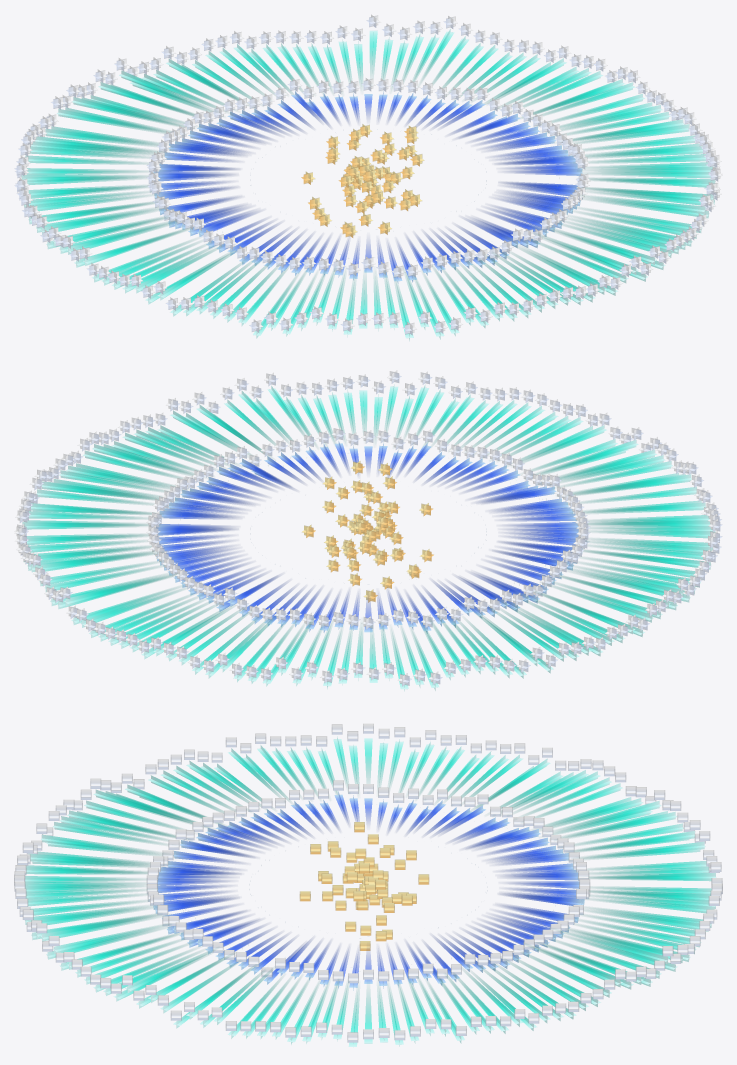
Rendered from fw_ring_teal_blue_a.glb.
The picture shows the model from 3 angles, top to bottom: view 1: azimuth 30°, elevation 25°; view 2: azimuth 150°, elevation 25°; view 3: azimuth 270°, elevation 25°; orthographic projection.
Parts seen in each view (by area): view 1: spire; view 2: spire; view 3: spire.
Part boxes in pixels (left/top/right/bottom): spire: left=14, top=14, right=722, bottom=341; spire: left=14, top=370, right=722, bottom=691; spire: left=14, top=723, right=722, bottom=1046.
Bounding box in the file's own units: 20.32 × 3.64 × 20.32.
Materials: 4 (4 with a texture image).
